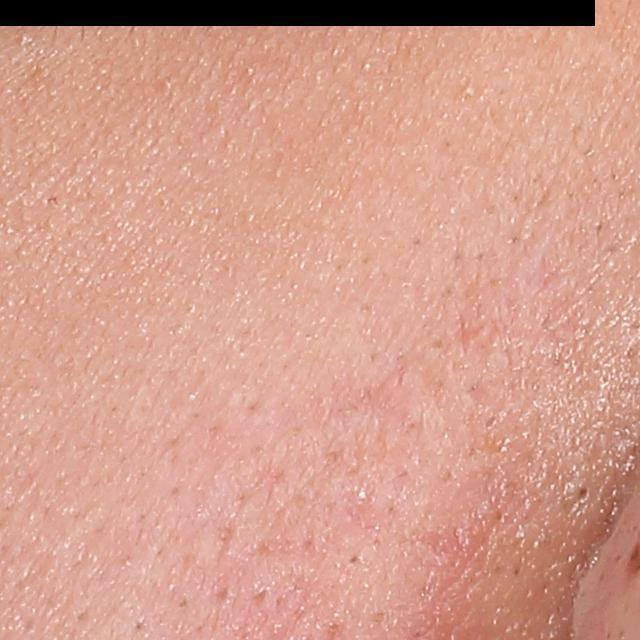comedo: (570, 479, 599, 504), (460, 81, 476, 97)
